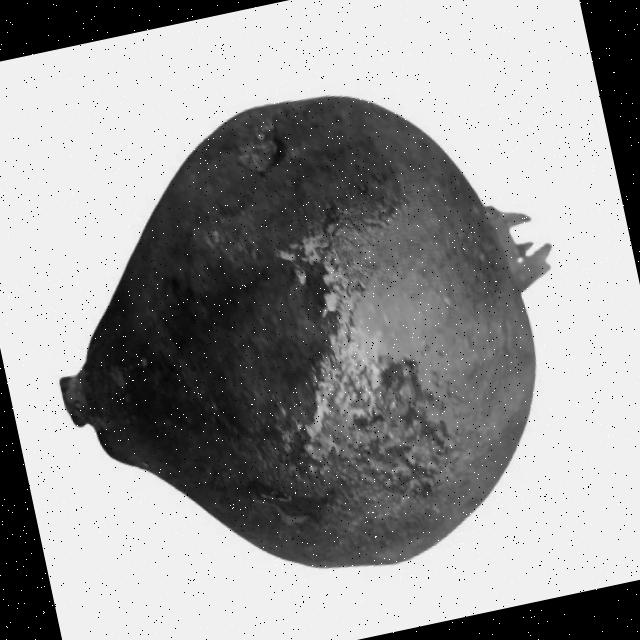Rotten: (13, 45, 620, 634)
